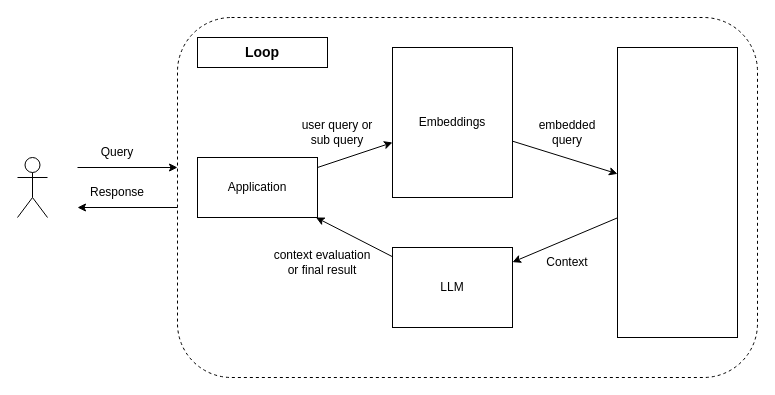
The diagram is 775 pixels wide and 395 high, and some of its shapes have lost their labels. The centre of each missing label's shape, as x and y in pixels:
User: the point at 32,187
Vector store: the point at 677,192
